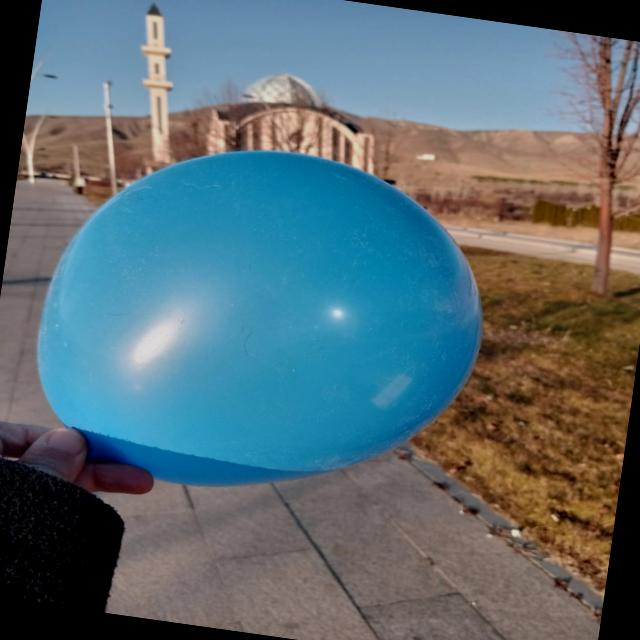balloon: (38, 151, 482, 486)
